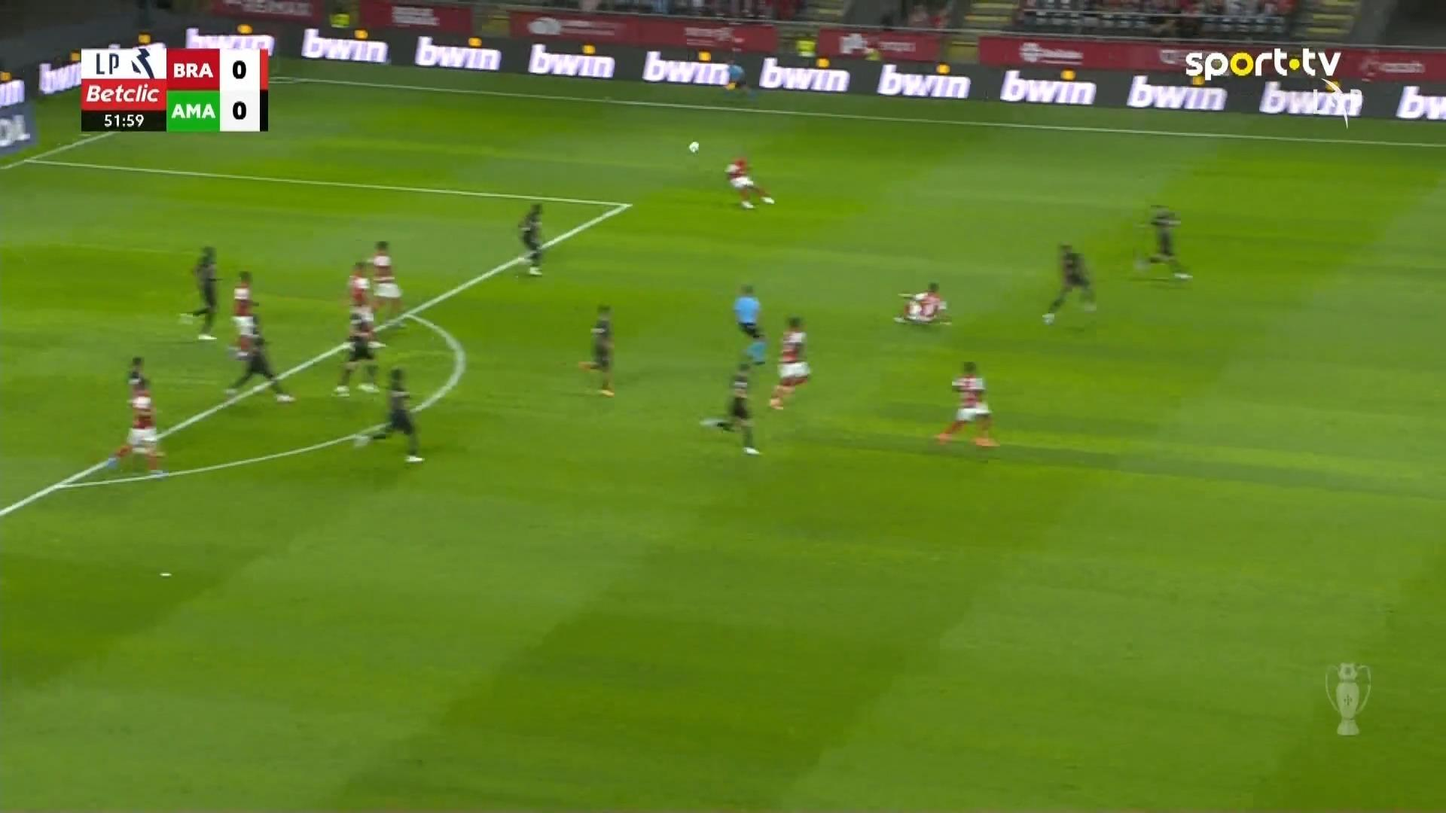ball: (688, 141, 699, 154)
player: (699, 333, 767, 455), (105, 355, 167, 477), (352, 365, 425, 463), (223, 305, 295, 403), (934, 359, 1000, 447), (1131, 202, 1192, 282), (1041, 241, 1097, 325), (332, 307, 384, 395), (767, 315, 812, 410), (177, 244, 221, 340), (579, 303, 617, 396), (367, 239, 405, 328), (724, 156, 775, 209), (230, 269, 260, 358), (893, 281, 951, 326), (345, 260, 374, 337), (517, 202, 545, 275)
referee: (732, 283, 767, 363)
